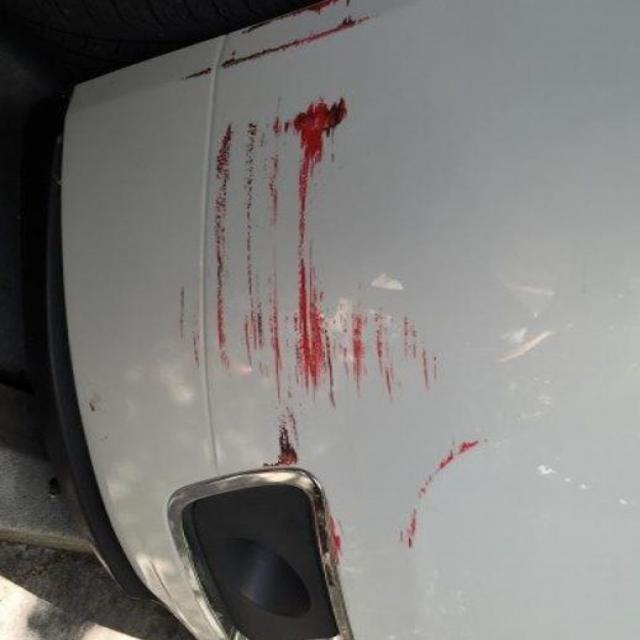scratch: (168, 9, 492, 565)
